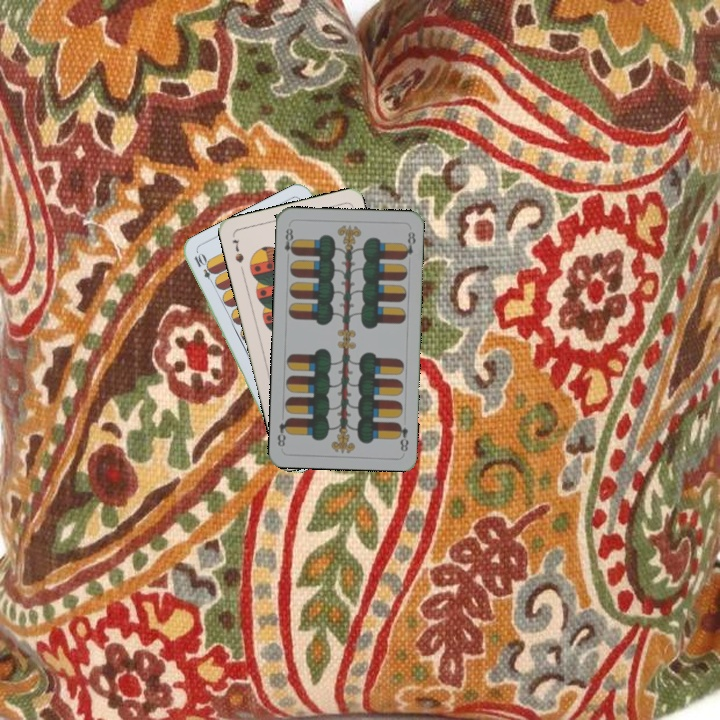E10: (190, 249, 218, 288)
E8: (393, 418, 411, 454), (281, 224, 298, 262)
S7: (228, 235, 246, 266)
